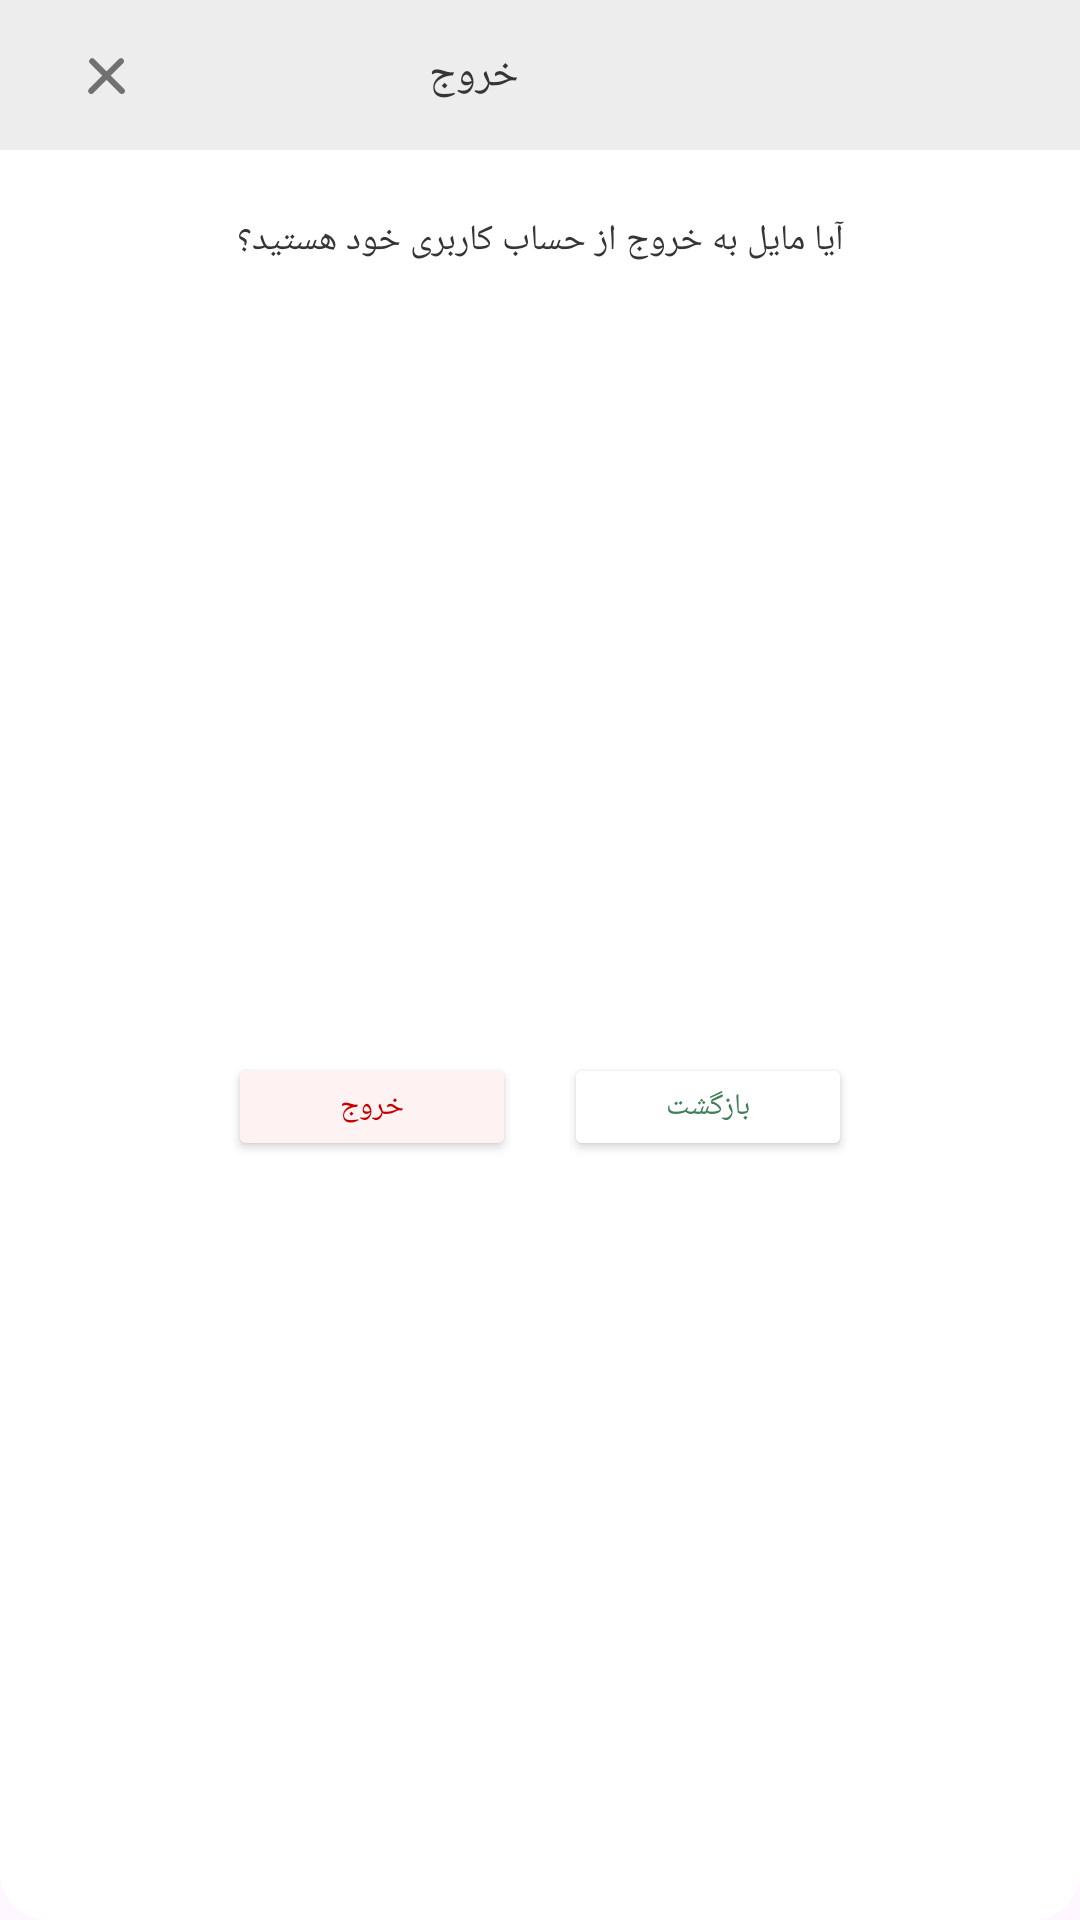

Icon bounding boxes for this 1080px×1920px phone screenshot, format box(x1, y1, x2, y2):
close: box(88, 58, 125, 94)
